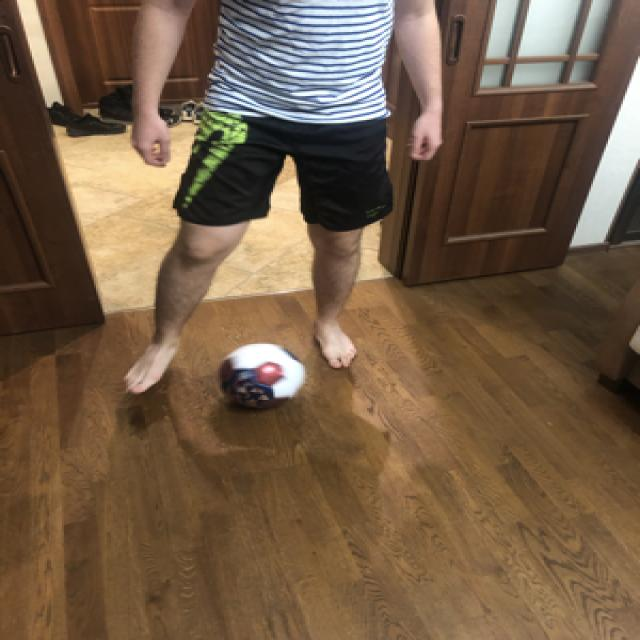soccer_ball: (213, 341, 301, 408)
